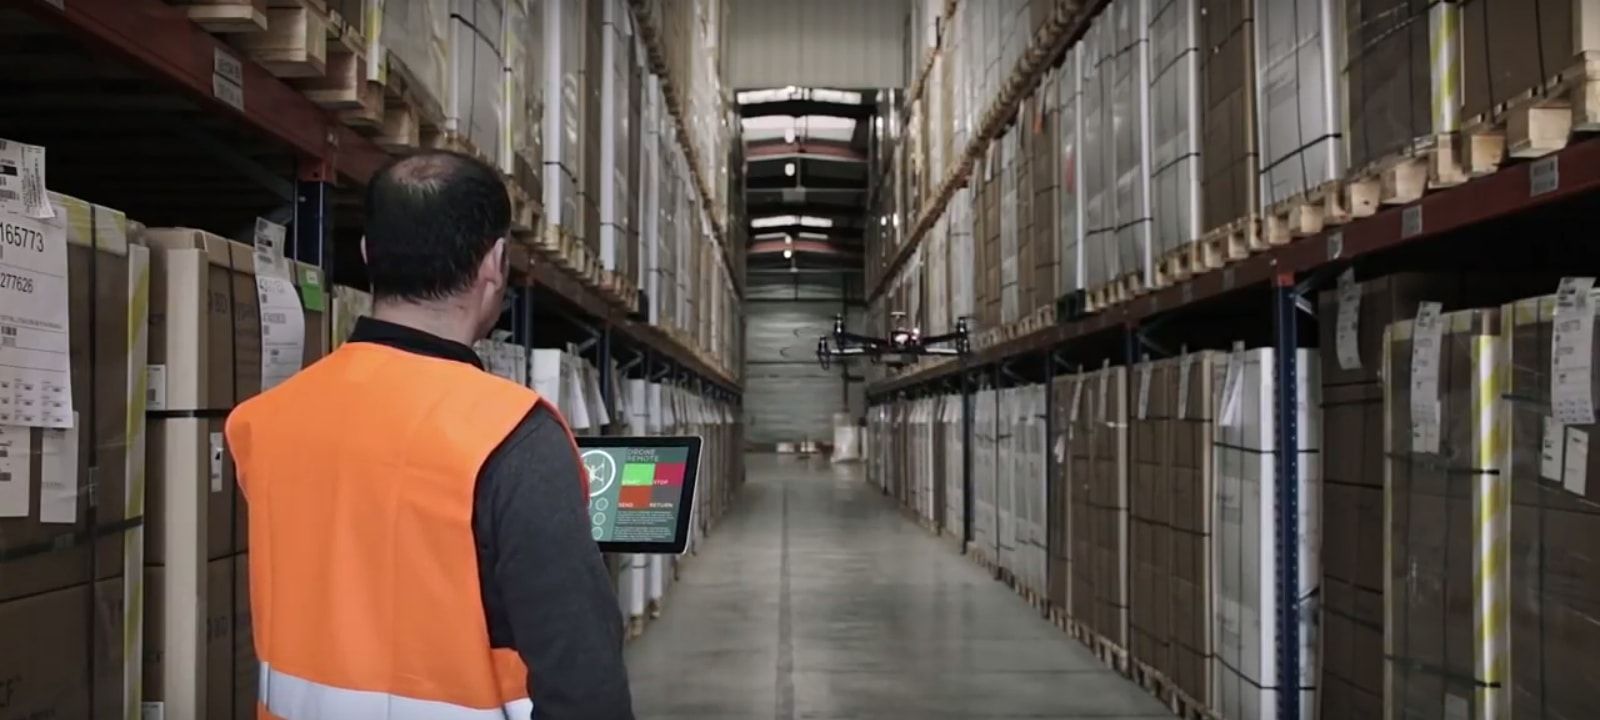drone: (778, 304, 1001, 380)
person: (218, 146, 637, 720)
